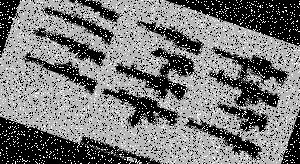SMG: (144, 42, 196, 81)
rifle: (96, 82, 186, 140), (200, 63, 283, 115), (107, 56, 190, 105), (26, 22, 110, 70), (180, 114, 262, 162), (130, 14, 204, 57), (41, 0, 129, 31), (213, 99, 269, 135)
shotgun: (16, 46, 101, 95), (39, 6, 114, 43)
sniper: (208, 40, 288, 89)
